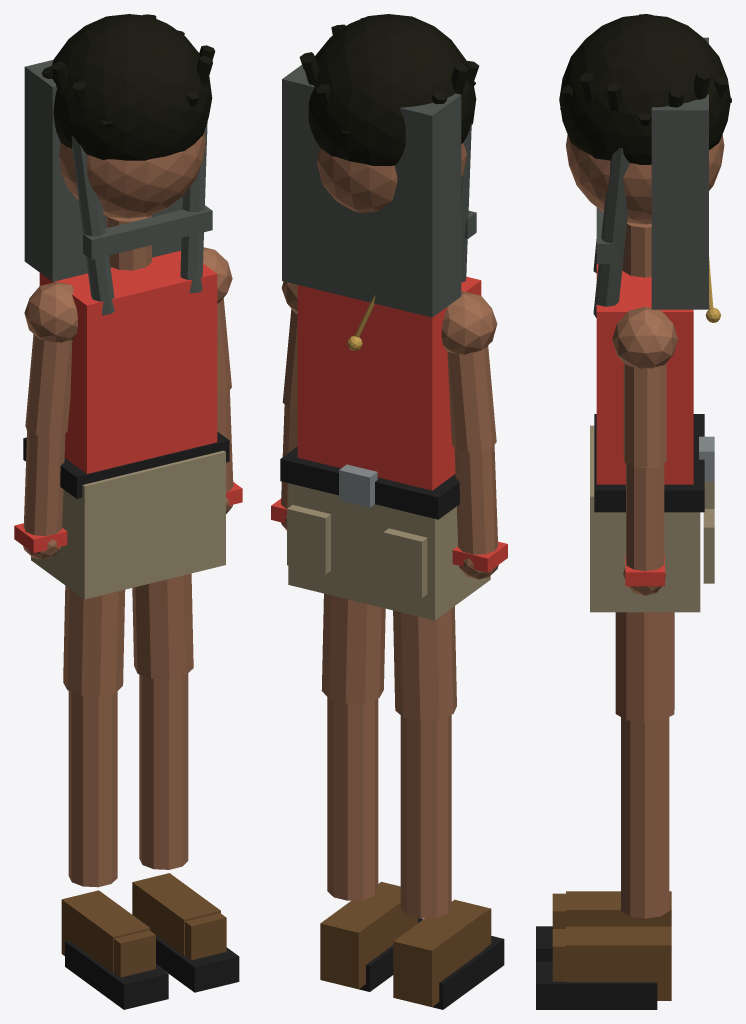
Rendered from female_trinidadian.glb.
The picture shows the model from 3 angles, left to right: view 1: azimuth 30°, elevation 25°; view 2: azimuth 150°, elevation 25°; view 3: azimuth 270°, elevation 25°; orthographic projection. The views are drawn at different scales.
Parts seen in each view (by area): view 1: red_tank, shorts, hair, backpack, L_lowerleg, R_lowerleg, head, L_thigh, R_thigh, L_upperarm, boot_L_upper, boot_R_upper (+15 smaller); view 2: backpack, red_tank, hair, shorts, L_lowerleg, R_lowerleg, L_thigh, R_thigh, boot_L_upper, boot_R_upper, L_upperarm, belt (+12 smaller); view 3: hair, backpack, red_tank, R_lowerleg, shorts, R_thigh, boot_R_upper, R_upperarm, R_forearm, head, boot_R_sole, R_shoulder (+11 smaller).
Part boxes in pixels (box(x1,y1,x2,y2)): red_tank: box(39, 250, 217, 473); shorts: box(31, 450, 225, 599); hair: box(52, 14, 212, 160); backpack: box(24, 59, 182, 281); L_lowerleg: box(68, 691, 117, 887); R_lowerleg: box(139, 673, 188, 869); head: box(59, 132, 205, 218); L_thigh: box(63, 585, 125, 696); R_thigh: box(132, 573, 193, 679); L_upperarm: box(25, 334, 72, 436); boot_L_upper: box(61, 890, 150, 972); boot_R_upper: box(132, 873, 220, 955); backpack: box(282, 65, 461, 317); red_tank: box(297, 276, 481, 490); hair: box(308, 14, 476, 165); shorts: box(288, 483, 490, 620); L_lowerleg: box(400, 715, 451, 918); R_lowerleg: box(327, 697, 378, 900); L_thigh: box(393, 606, 456, 720); R_thigh: box(321, 593, 385, 703); boot_L_upper: box(393, 903, 485, 1006); boot_R_upper: box(320, 885, 412, 989); L_upperarm: box(447, 345, 496, 452); belt: box(280, 446, 459, 519); hair: box(559, 14, 730, 164); backpack: box(651, 37, 708, 309); red_tank: box(596, 264, 693, 484); R_lowerleg: box(621, 717, 669, 918); shorts: box(590, 425, 700, 612); R_thigh: box(615, 612, 674, 722); boot_R_upper: box(566, 926, 671, 1000); R_upperarm: box(623, 363, 666, 467); R_forearm: box(626, 463, 664, 571); head: box(566, 135, 724, 224); boot_R_sole: box(536, 961, 657, 1009); R_shoulder: box(612, 306, 677, 368).
Bounding box in the file's own units: 1.12 × 4.81 × 0.8888.
